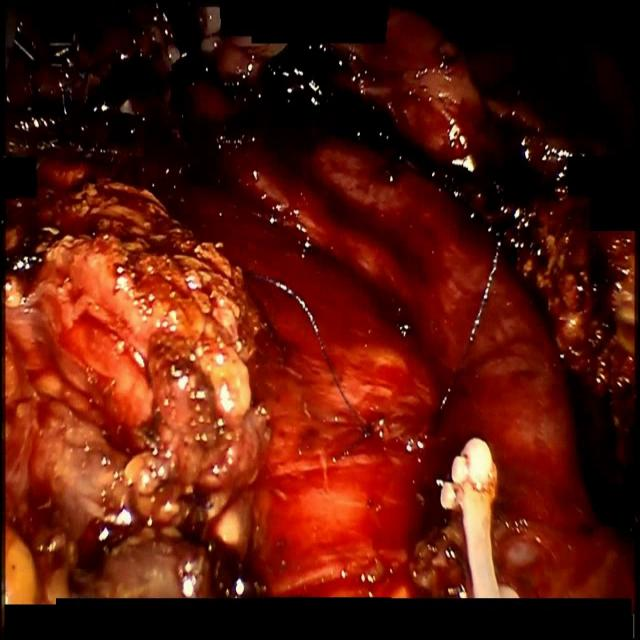surgical-area: (2, 4, 640, 603)
